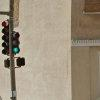Traffic light: (1, 13, 35, 70)
